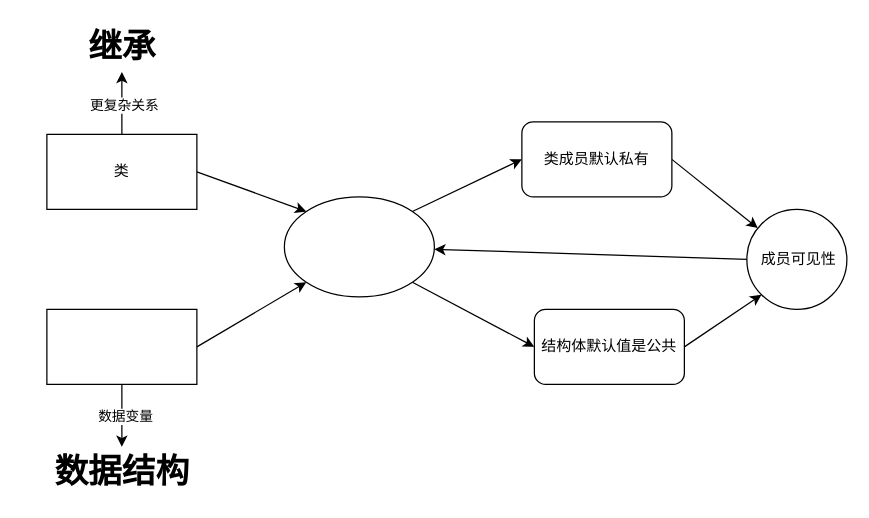
This 869x518 diagram has some shape labels left out. The shapes that lost their labels are listed below. From the top down, each one's centre as x and y in pixels, then its label:
the point at 358,246: 区别
the point at 121,346: 结构体
